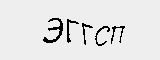Г: (66, 16, 79, 47), (81, 21, 92, 49)
П: (109, 23, 126, 45)
С: (94, 24, 111, 48)
Э: (43, 16, 64, 45)
